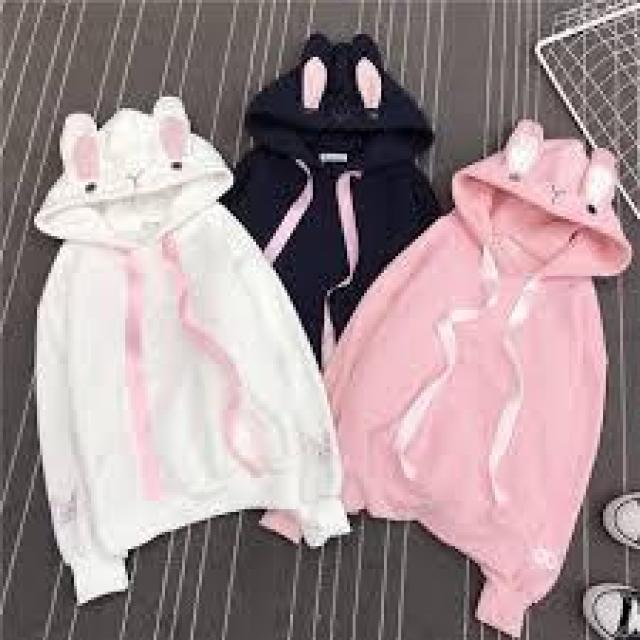sweater: (31, 97, 333, 597), (333, 125, 617, 629)
